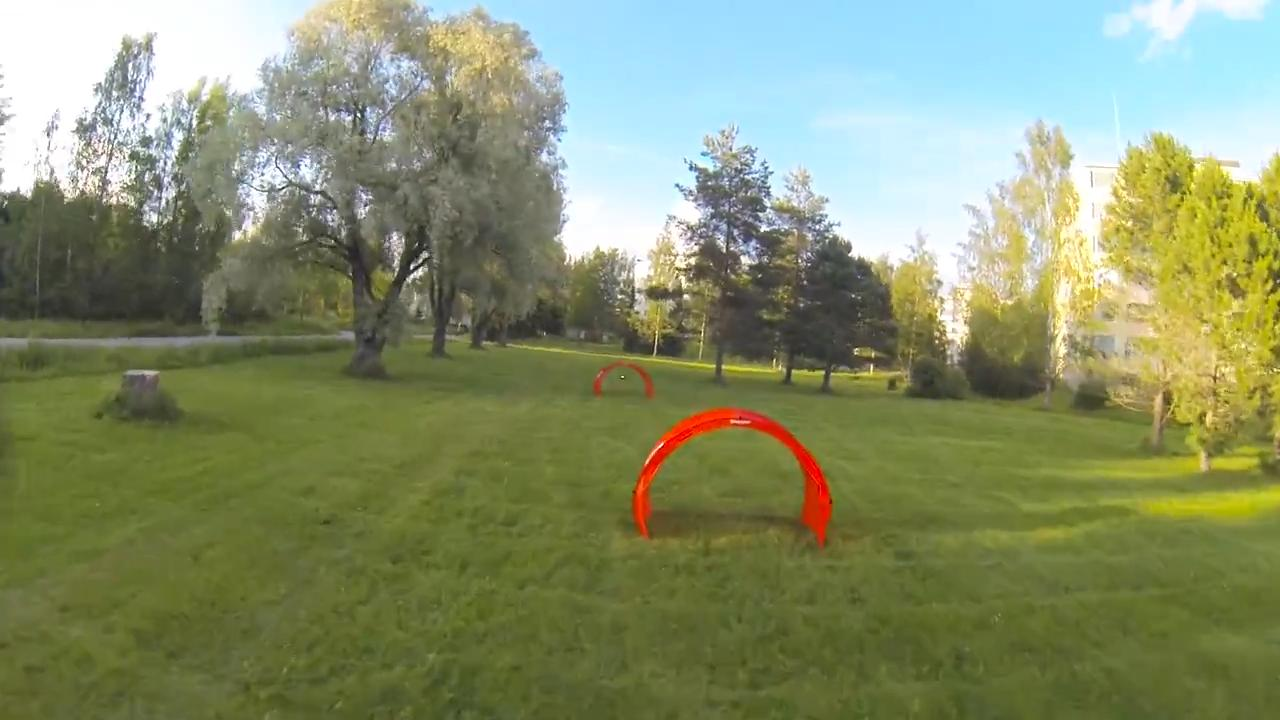gate: (624, 404, 834, 541)
